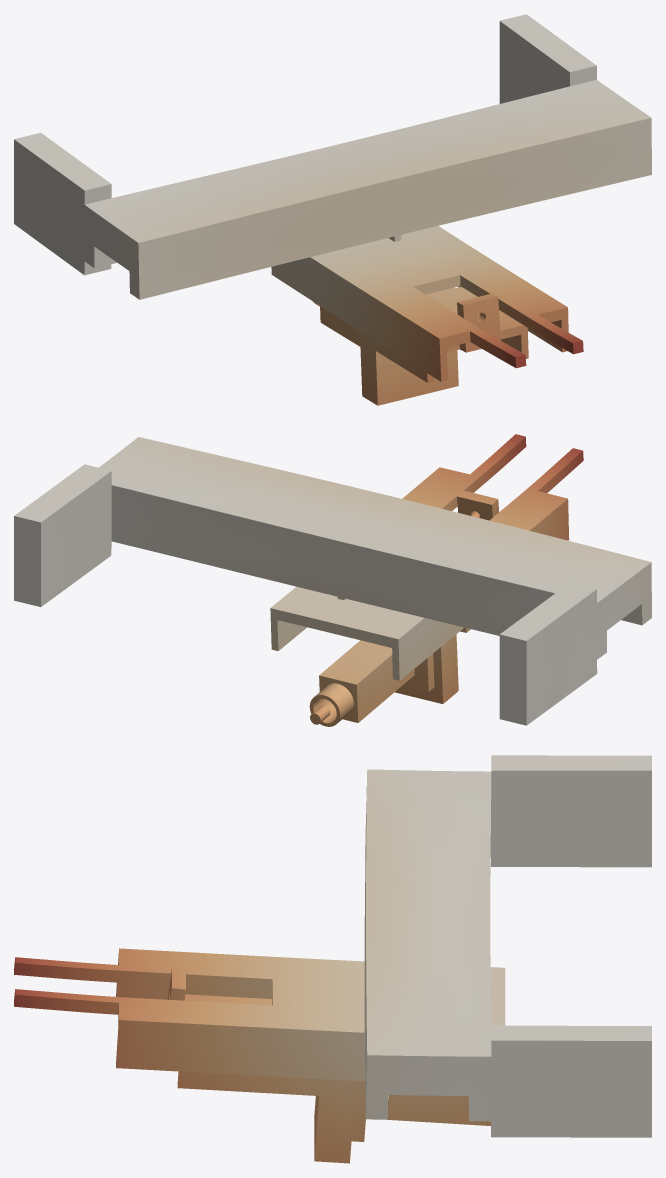
Rendered from gantry_h6_c10_Fz_u.glb.
3 renders of one model, top to bottom at view 1: azimuth 30°, elevation 25°; view 2: azimuth 150°, elevation 25°; view 3: azimuth 270°, elevation 25°, orthographic. The views are drawn at different scales.
Parts seen in each view (by area): view 1: geometry_0; view 2: geometry_0; view 3: geometry_0.
Part boxes in pixels (x1,y1,x2,y2): geometry_0: (14,14,651,405); geometry_0: (14,434,651,726); geometry_0: (14,755,651,1163).
Bounding box in the file's own units: 761 × 302 × 718.
